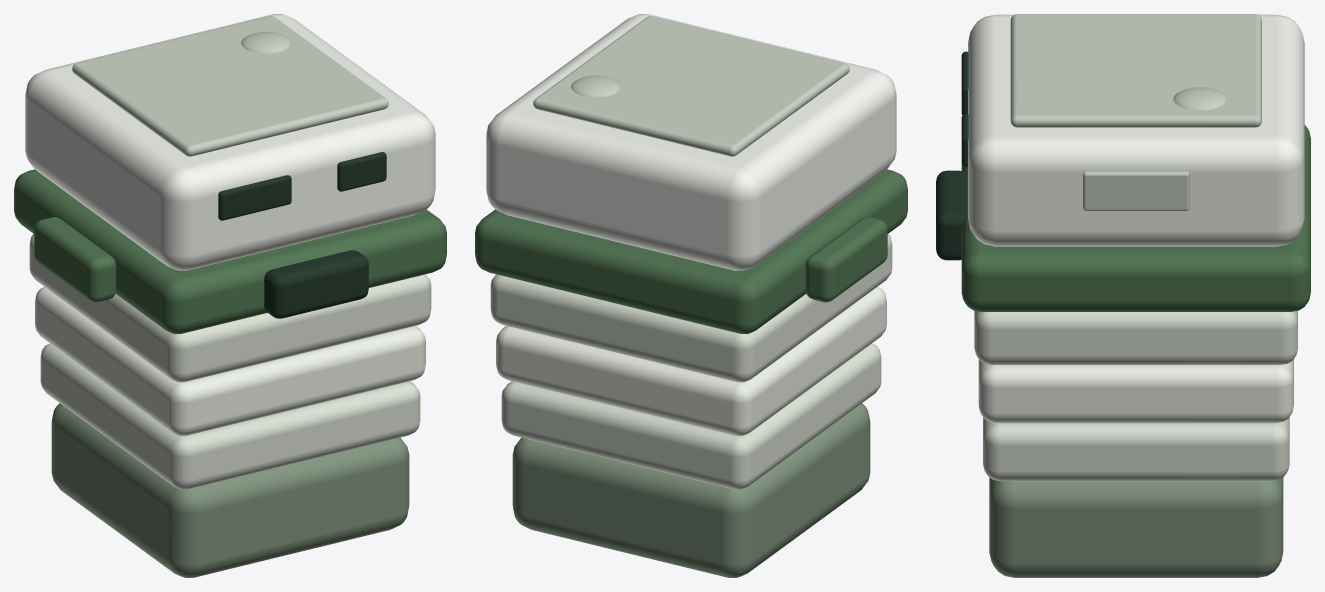
Rendered from M10_cartridge_concept.glb.
3 views of the same model, side by side, from view 1: azimuth 30°, elevation 25°; view 2: azimuth 150°, elevation 25°; view 3: azimuth 270°, elevation 25° (orthographic). The views are drawn at different scales.
Parts seen in each view (by area): view 1: shell_top, shell_base, shell_lid, shell_tier2, shell_tier1, shell_band, shell_tier3, shell_clip, shell_side, shell_win1, shell_win2, shell_port; view 2: shell_top, shell_base, shell_band, shell_lid, shell_tier2, shell_tier1, shell_tier3, shell_side, shell_port; view 3: shell_top, shell_base, shell_lid, shell_band, shell_tier2, shell_tier1, shell_tier3, shell_latch, shell_clip, shell_port.
Boxes of the visible parts, left/top/right/bottom form: shell_top: left=25, top=14, right=435, bottom=270; shell_base: left=51, top=403, right=409, bottom=577; shell_lid: left=72, top=16, right=388, bottom=156; shell_tier2: left=35, top=287, right=425, bottom=435; shell_tier1: left=40, top=343, right=420, bottom=489; shell_band: left=14, top=169, right=446, bottom=334; shell_tier3: left=29, top=233, right=431, bottom=382; shell_clip: left=264, top=250, right=368, bottom=318; shell_side: left=34, top=217, right=116, bottom=302; shell_win1: left=218, top=175, right=291, bottom=220; shell_win2: left=337, top=152, right=386, bottom=191; shell_port: left=241, top=32, right=290, bottom=53; shell_top: left=486, top=14, right=896, bottom=270; shell_base: left=512, top=403, right=870, bottom=577; shell_band: left=475, top=169, right=907, bottom=334; shell_lid: left=533, top=16, right=849, bottom=156; shell_tier2: left=496, top=287, right=886, bottom=435; shell_tier1: left=501, top=343, right=881, bottom=489; shell_tier3: left=490, top=233, right=892, bottom=382; shell_side: left=805, top=217, right=887, bottom=302; shell_port: left=571, top=75, right=620, bottom=97; shell_top: left=968, top=14, right=1304, bottom=246; shell_base: left=989, top=477, right=1283, bottom=577; shell_lid: left=1010, top=14, right=1261, bottom=127; shell_band: left=961, top=125, right=1310, bottom=311; shell_tier2: left=978, top=359, right=1293, bottom=423; shell_tier1: left=983, top=417, right=1289, bottom=481; shell_tier3: left=974, top=310, right=1297, bottom=364; shell_latch: left=1083, top=171, right=1189, bottom=210; shell_clip: left=936, top=170, right=965, bottom=260; shell_port: left=1173, top=87, right=1226, bottom=110.
Bounding box in the file's own units: 1.8 × 2.41 × 1.76.
